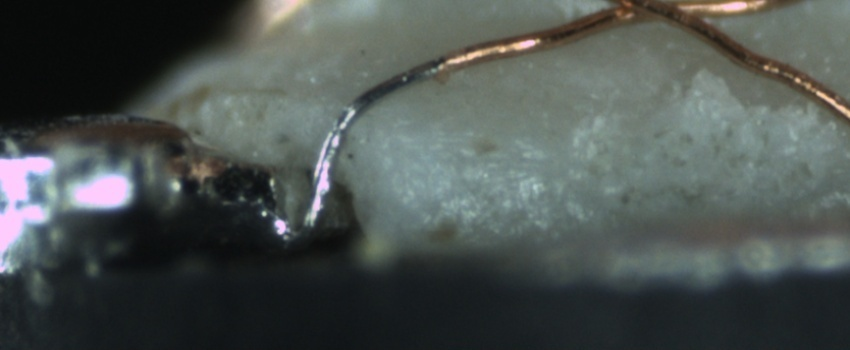CL: (595, 0, 693, 22)
DL: (394, 129, 561, 186)
TS: (306, 60, 445, 234)
TTCW: (297, 36, 502, 229)
